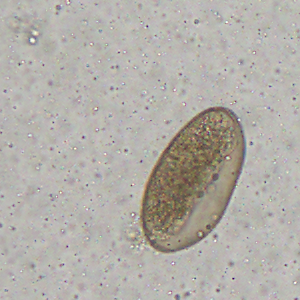Fasciola_hepatica_egg: (139, 105, 247, 254)
